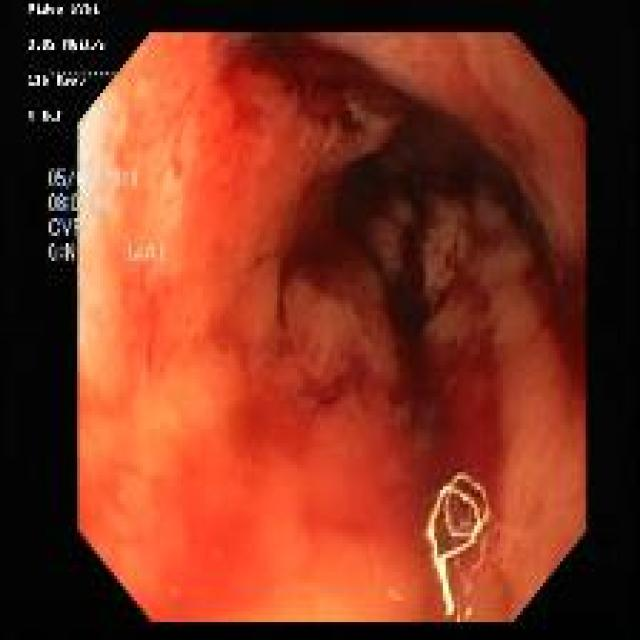ulcerative-colitis: (80, 33, 585, 621)
